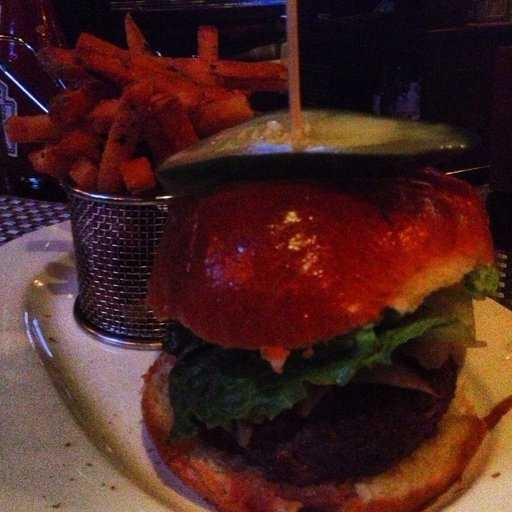hamburger: (143, 93, 470, 501)
